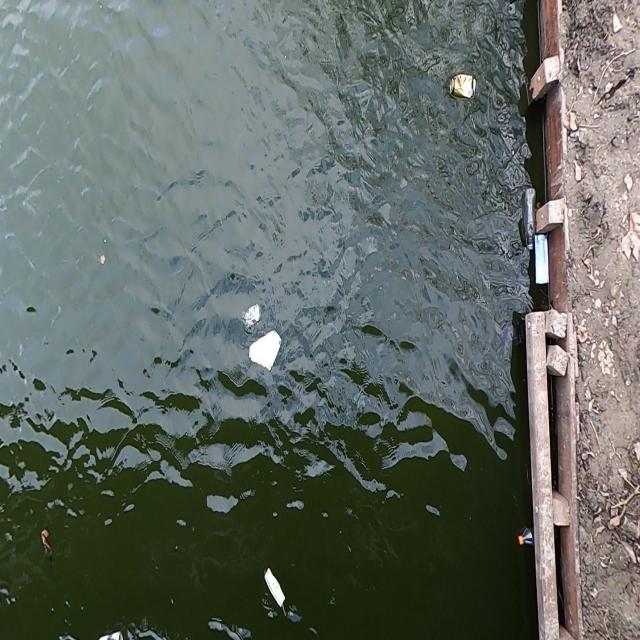Autre plastique: (242, 330, 286, 373)
Bouteille plastique: (523, 185, 537, 254)
Non plastique: (260, 564, 292, 616), (444, 72, 483, 104)
